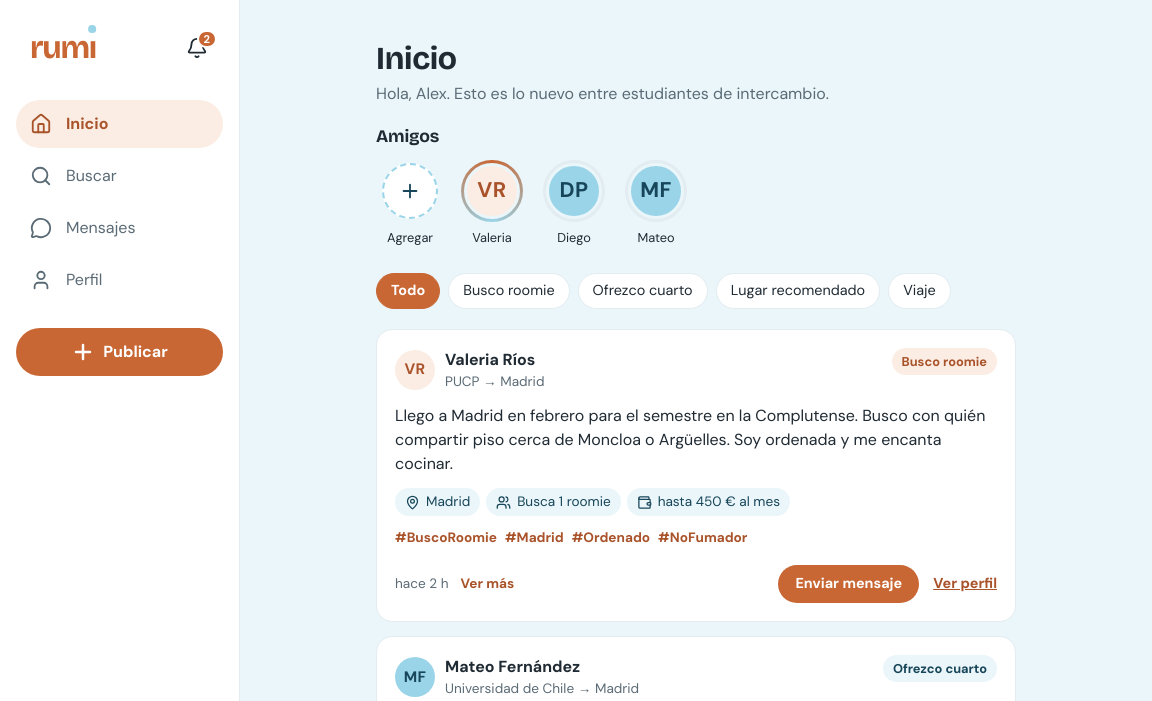
el + de la navegación abre /publicar
The width and height of the screenshot is (1152, 701).
Click the link "Publicar" at (120, 352), box [16,328,223,376]
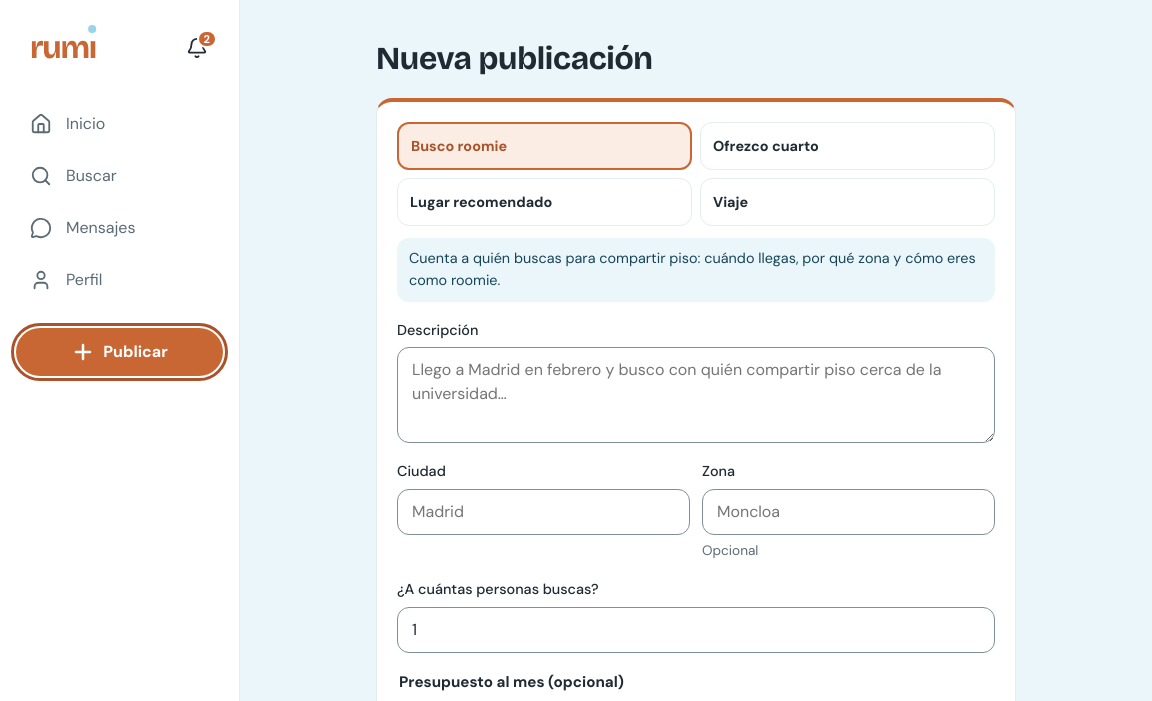
Expected: the heading "Nueva publicación" is shown, [376,39,653,78]
